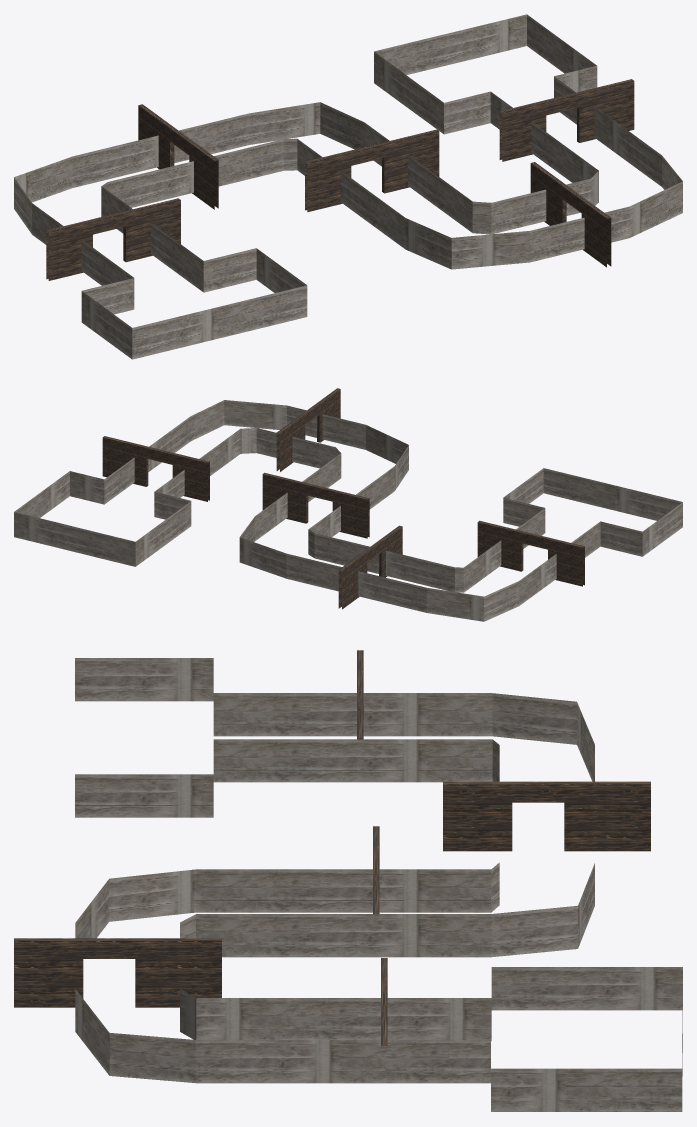
Rendered from tutmap2.fbx.
3 views of the same model, one above another, from view 1: azimuth 30°, elevation 25°; view 2: azimuth 150°, elevation 25°; view 3: azimuth 270°, elevation 25° (orthographic). The views are drawn at different scales.
Parts seen in each view (by area): view 1: Plane.001; view 2: Plane.001; view 3: Plane.001.
Boxes of the visible parts, <box> form: Plane.001: <box>14,14,682,359</box>; Plane.001: <box>14,388,682,621</box>; Plane.001: <box>14,650,682,1111</box>.
Bounding box in the file's own units: 5605 × 424 × 3858.
